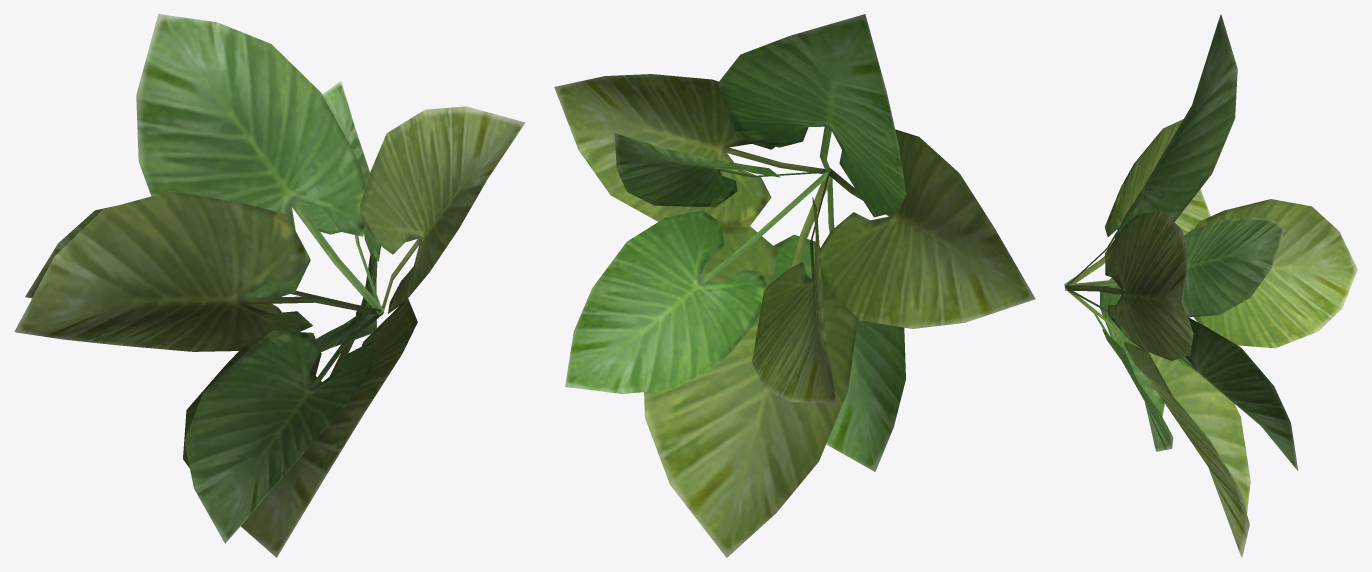
Rendered from Plant_Big_B.fbx.
The picture shows the model from 3 angles, left to right: view 1: azimuth 30°, elevation 25°; view 2: azimuth 150°, elevation 25°; view 3: azimuth 270°, elevation 25°; orthographic projection. The views are drawn at different scales.
Parts seen in each view (by area): view 1: Plant_Big_B; view 2: Plant_Big_B; view 3: Plant_Big_B.
Boxes of the visible parts, <box> form: Plant_Big_B: <box>14,14,524,557</box>; Plant_Big_B: <box>554,14,1035,557</box>; Plant_Big_B: <box>1064,14,1357,557</box>.
Bounding box in the file's own units: 3.97 × 4.4 × 2.39.
